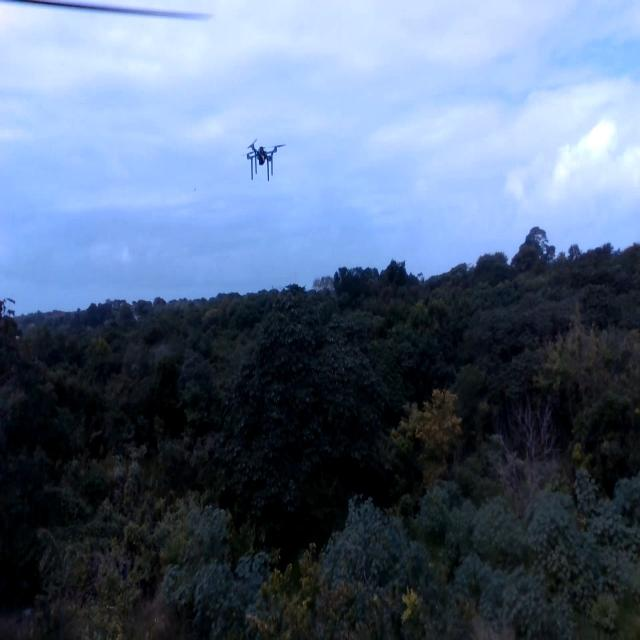-uav-: (241, 130, 287, 197)
